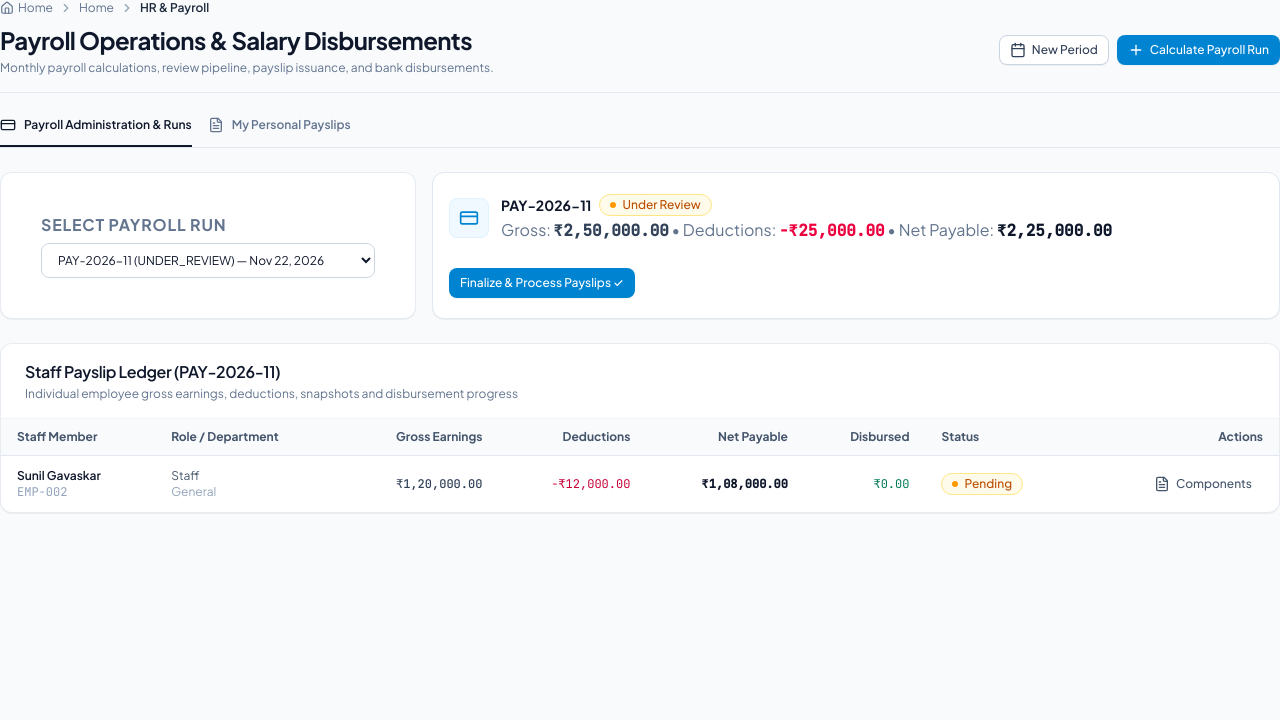
Test: Milestone H5 & H6: Operational Modules Unit & Integration Tests › renders Payroll periods and warns on irreversible payslip processing
The width and height of the screenshot is (1280, 720).
Expected: the heading "PAY-2026-11" is shown, top-left (501, 194), bottom-right (592, 214)
Click the button "Finalize & Process Payslips ✓": x=542, y=282 top-left (449, 268), bottom-right (635, 298)
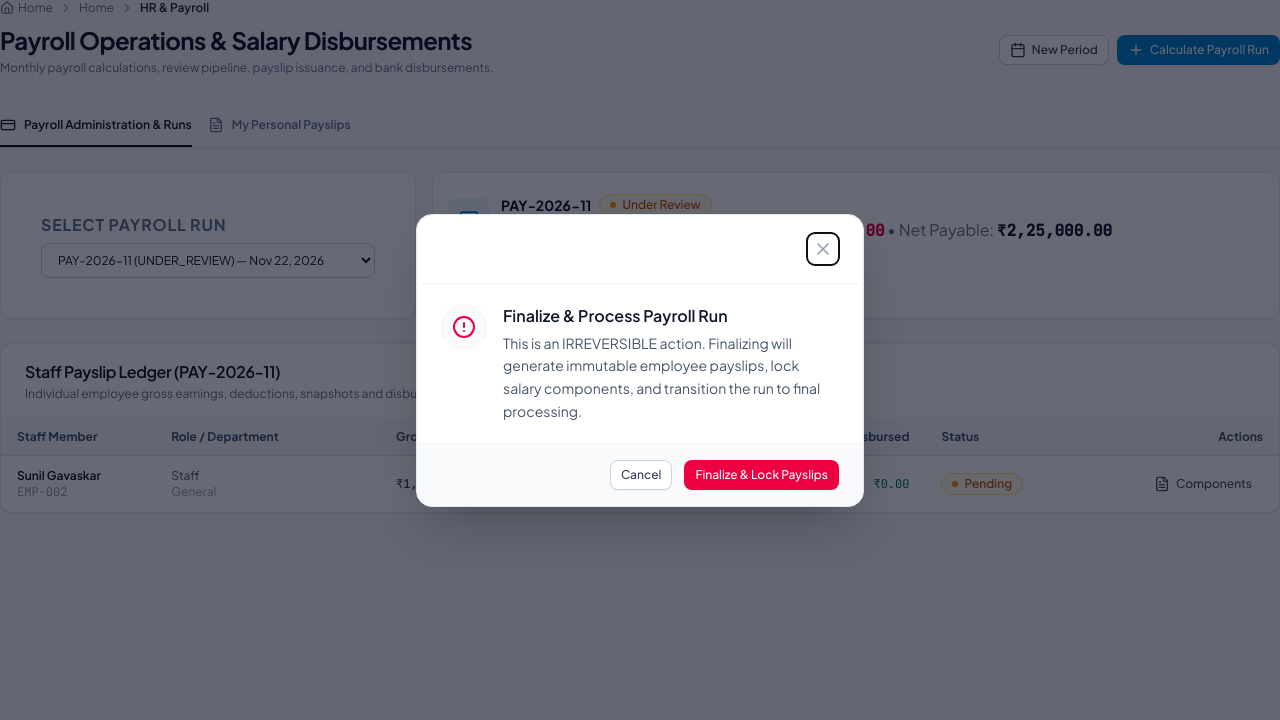
Now the heading "Finalize & Process Payroll Run" is shown, box top-left (503, 304), bottom-right (728, 326)
